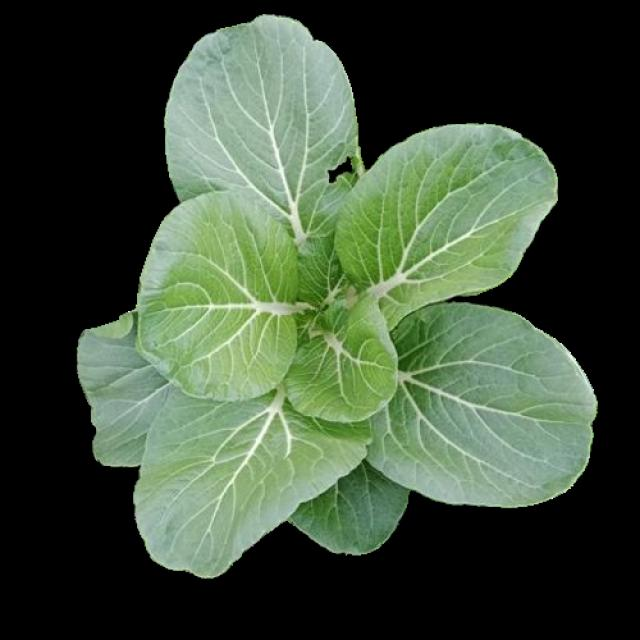mature: (82, 17, 587, 576)
unhealthy: (162, 18, 364, 200)
